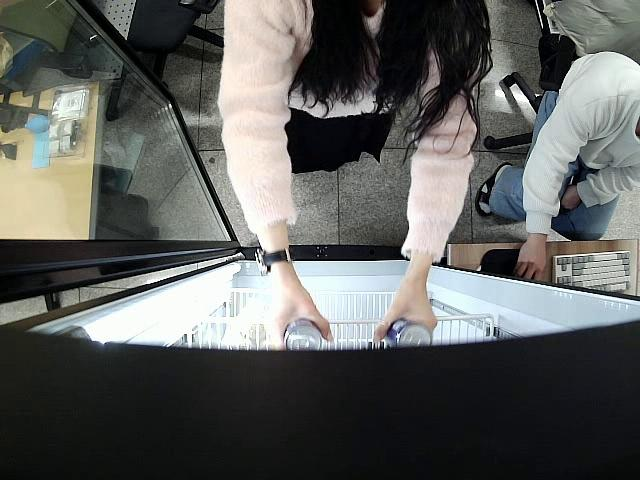00_hand: (261, 279, 335, 354), (369, 279, 439, 345), (513, 237, 549, 283)
16_hot6: (384, 319, 432, 349), (284, 317, 323, 351)
